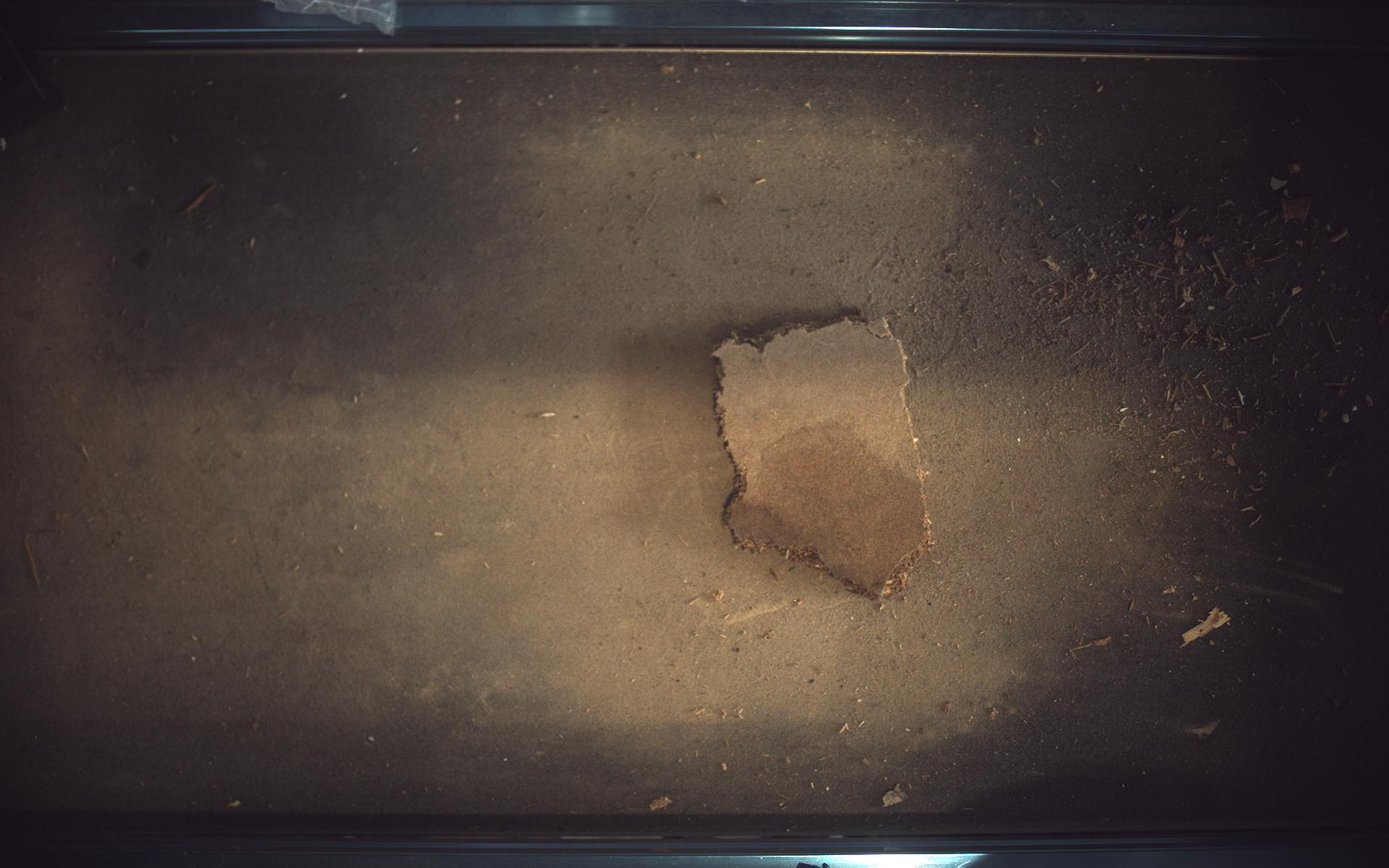wood: (715, 317, 935, 598)
